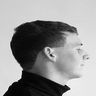ear: (40, 42, 60, 66)
